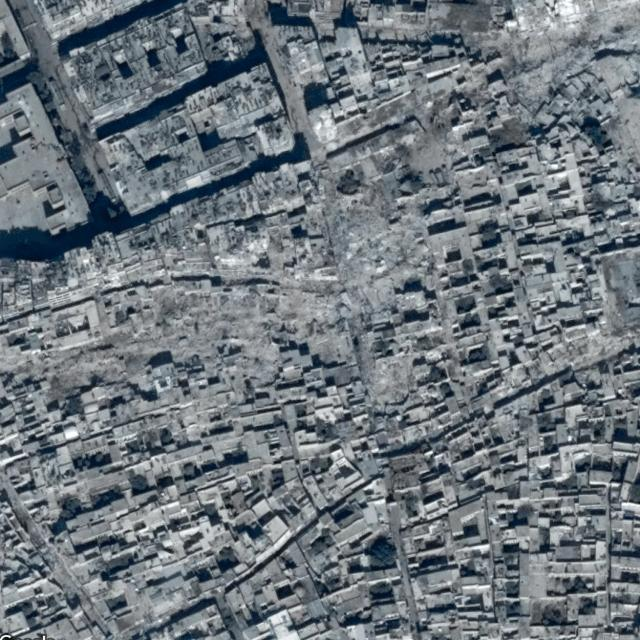damaged_building: (31, 85, 494, 407), (505, 0, 640, 110)
